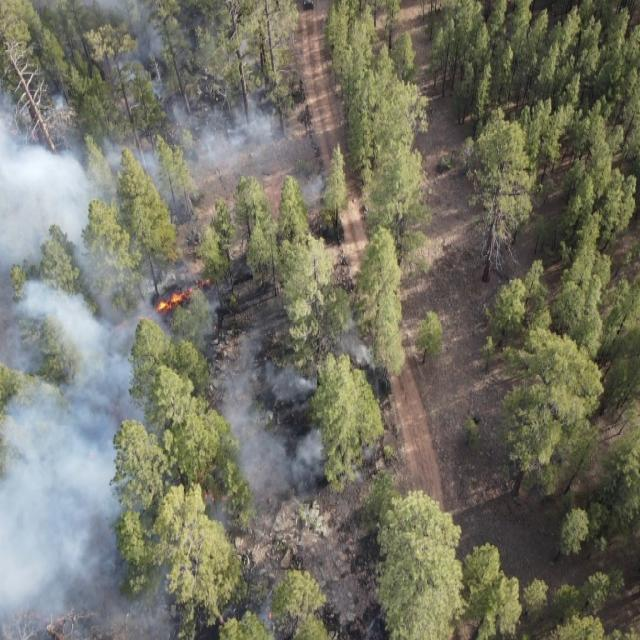fire: (97, 275, 220, 345), (198, 472, 226, 506), (262, 609, 276, 622)
smoke: (0, 261, 320, 639), (0, 0, 277, 260), (336, 316, 376, 368), (298, 168, 329, 214), (354, 441, 381, 487)
